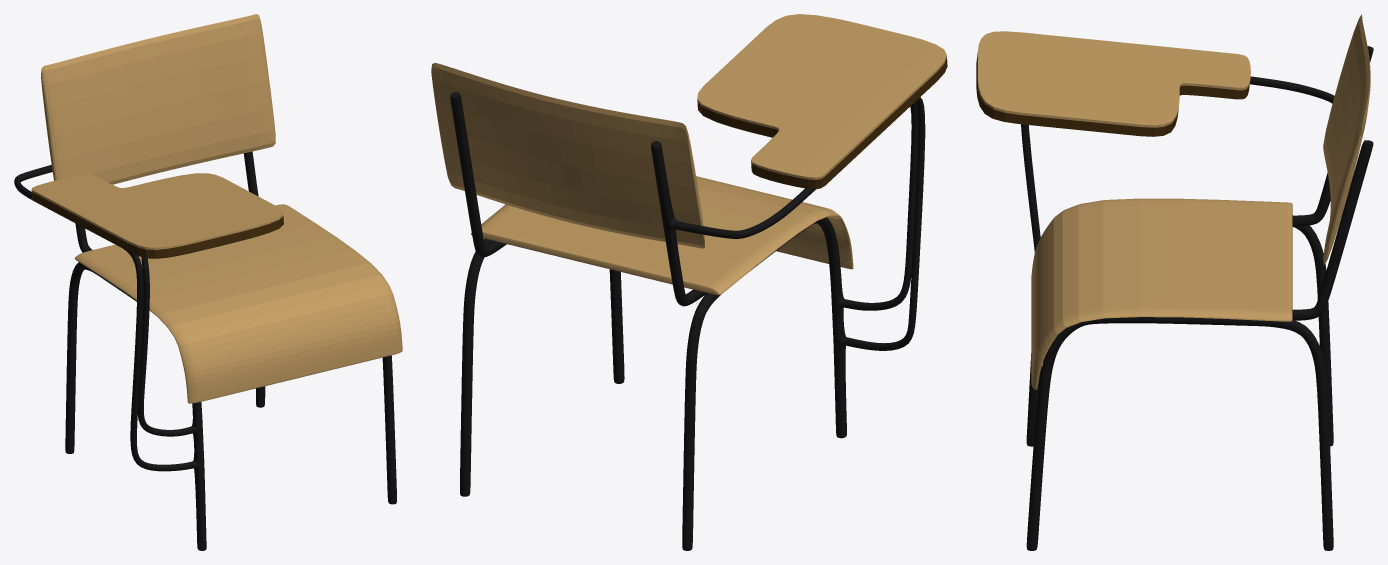
The model's file is classSeat.obj.
The picture shows the model from 3 angles, left to right: view 1: azimuth 30°, elevation 25°; view 2: azimuth 150°, elevation 25°; view 3: azimuth 270°, elevation 25°; orthographic projection. The views are drawn at different scales.
Parts seen in each view (by area): view 1: Cube; view 2: Cube; view 3: Cube.
Part boxes in pixels (x1,y1,x2,y2): Cube: (14, 14, 402, 550); Cube: (431, 14, 947, 550); Cube: (976, 14, 1373, 550).
Size of the model in its own units: 62.5 by 79.99 by 67.72.
